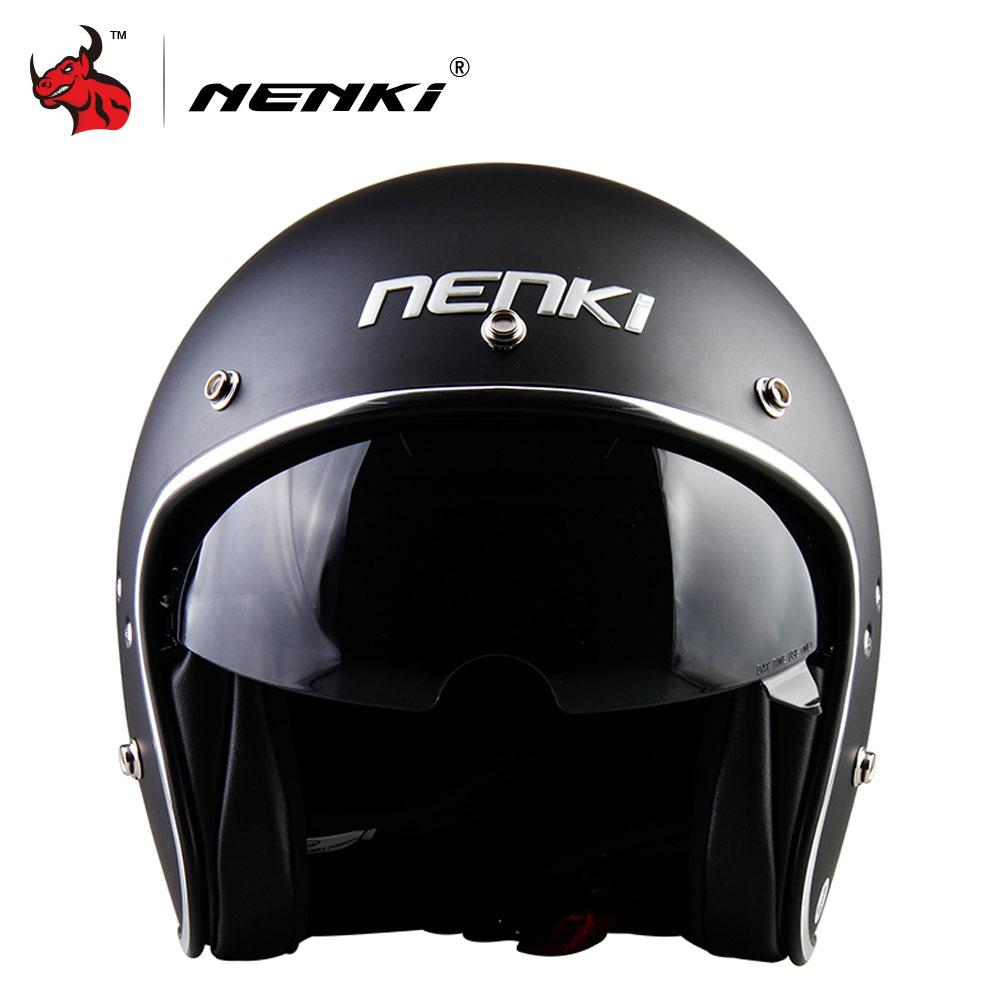with_helmet: (114, 161, 891, 981)
